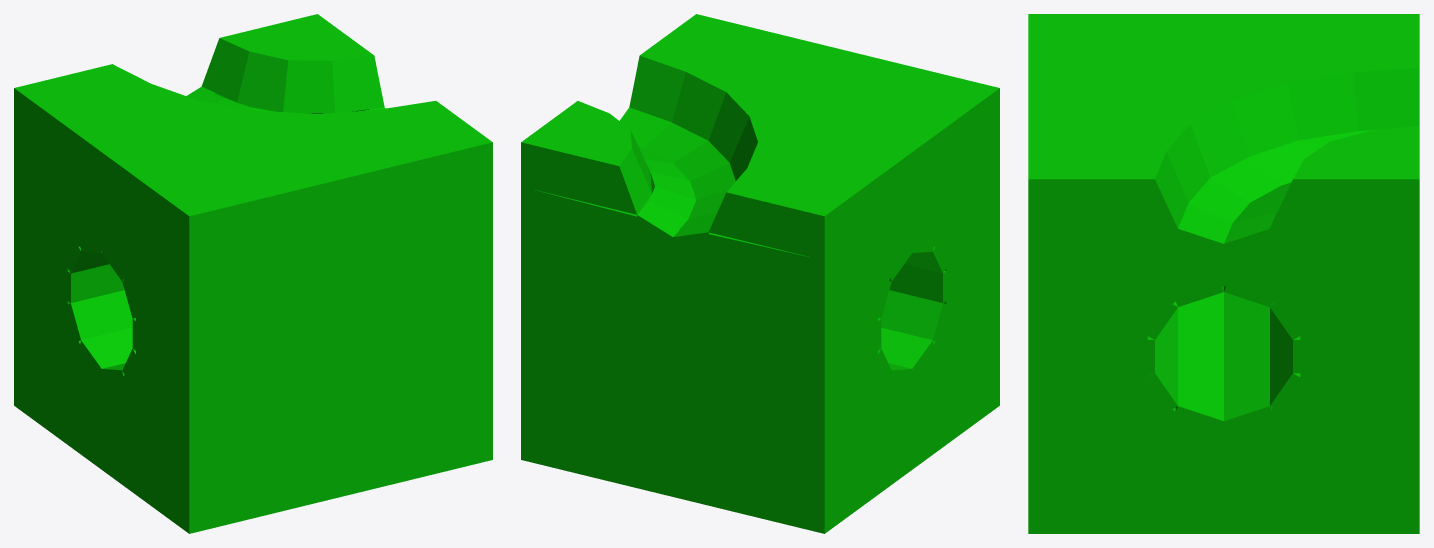
File: UCXKugelbahn.06.fbx
3 renders of one model, left to right at view 1: azimuth 30°, elevation 25°; view 2: azimuth 150°, elevation 25°; view 3: azimuth 270°, elevation 25°, orthographic. The views are drawn at different scales.
Parts seen in each view (by area): view 1: UCX_Kugelbahn.06_low; view 2: UCX_Kugelbahn.06_low; view 3: UCX_Kugelbahn.06_low.
Boxes of the visible parts, x1=… form: UCX_Kugelbahn.06_low: x1=14, y1=14, x2=492, y2=533; UCX_Kugelbahn.06_low: x1=521, y1=14, x2=999, y2=533; UCX_Kugelbahn.06_low: x1=1028, y1=14, x2=1419, y2=533.
Bounding box in the file's own units: 0.05 × 0.05 × 0.05.
